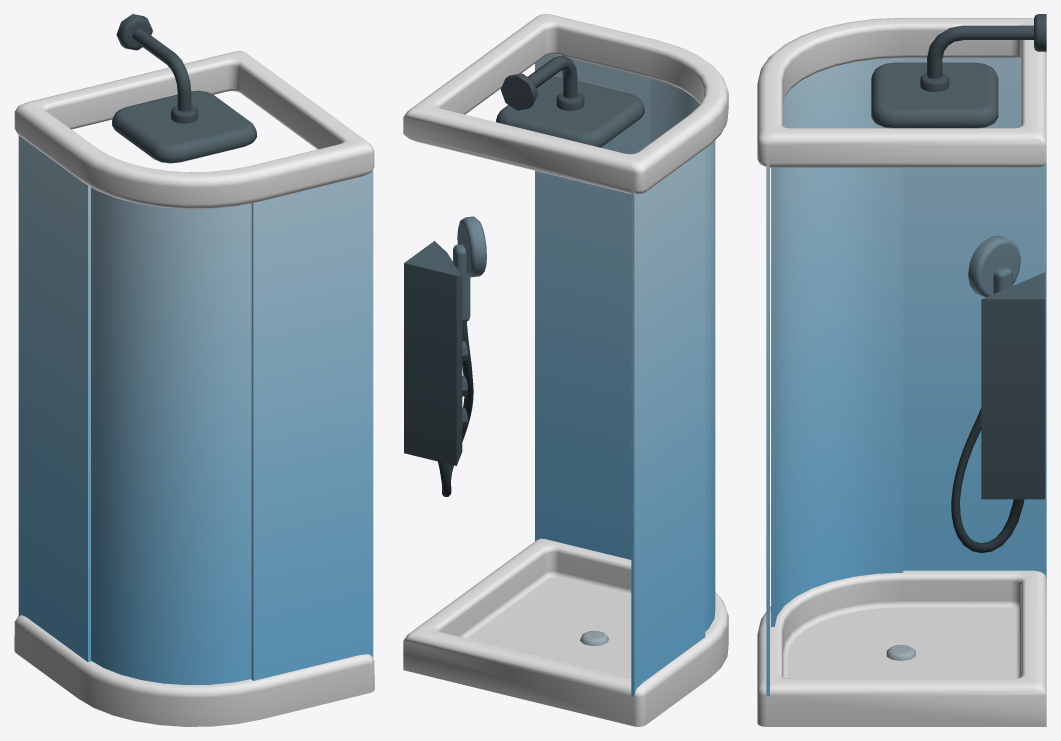
File: Shower_03.glb
The picture shows the model from 3 angles, left to right: view 1: azimuth 30°, elevation 25°; view 2: azimuth 150°, elevation 25°; view 3: azimuth 270°, elevation 25°; orthographic projection. The views are drawn at different scales.
Visible parts, largest first — view 1: Shower_03; view 2: Shower_03; view 3: Shower_03.
Part boxes in pixels (left/top/right/bottom): Shower_03: left=14, top=14, right=374, bottom=726; Shower_03: left=403, top=14, right=728, bottom=726; Shower_03: left=757, top=14, right=1046, bottom=726.
Size of the model in its own units: 0.8 by 2 by 0.8.
2 materials, 2 textured.
